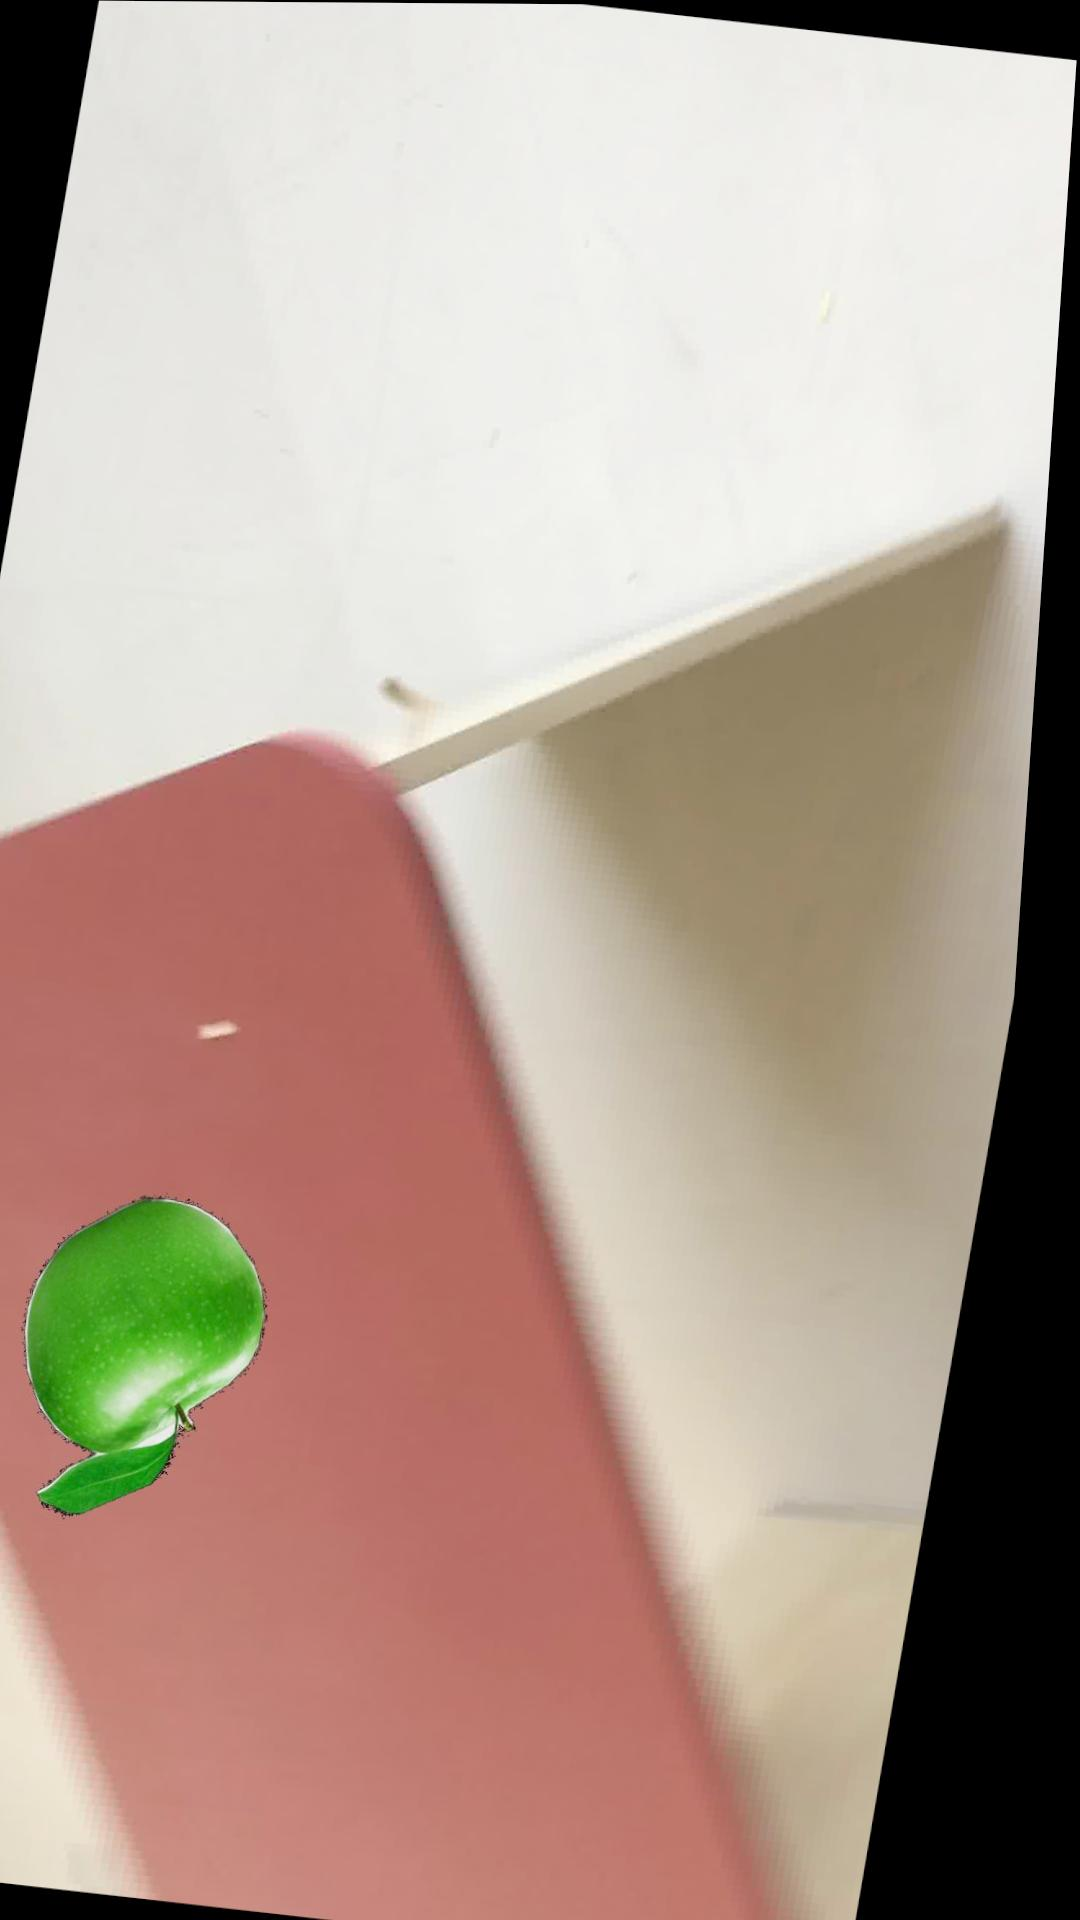green apple: (44, 1196, 285, 1516)
